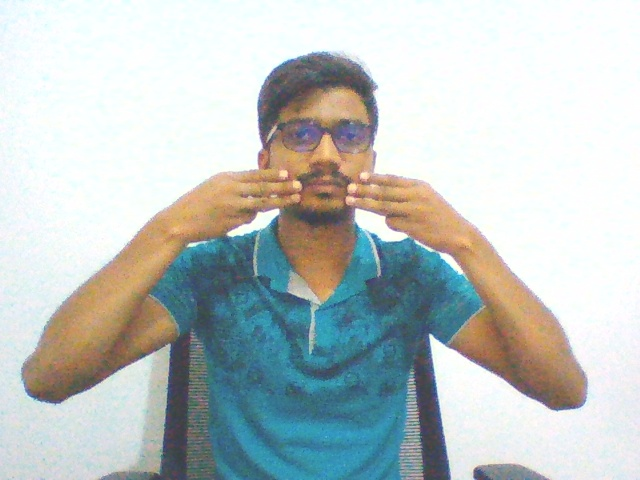cat: (146, 161, 484, 262)
